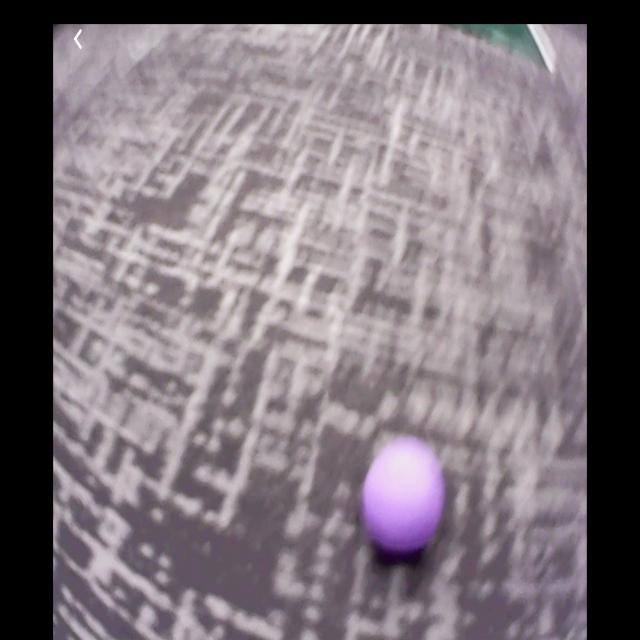ball: (364, 442, 444, 555)
